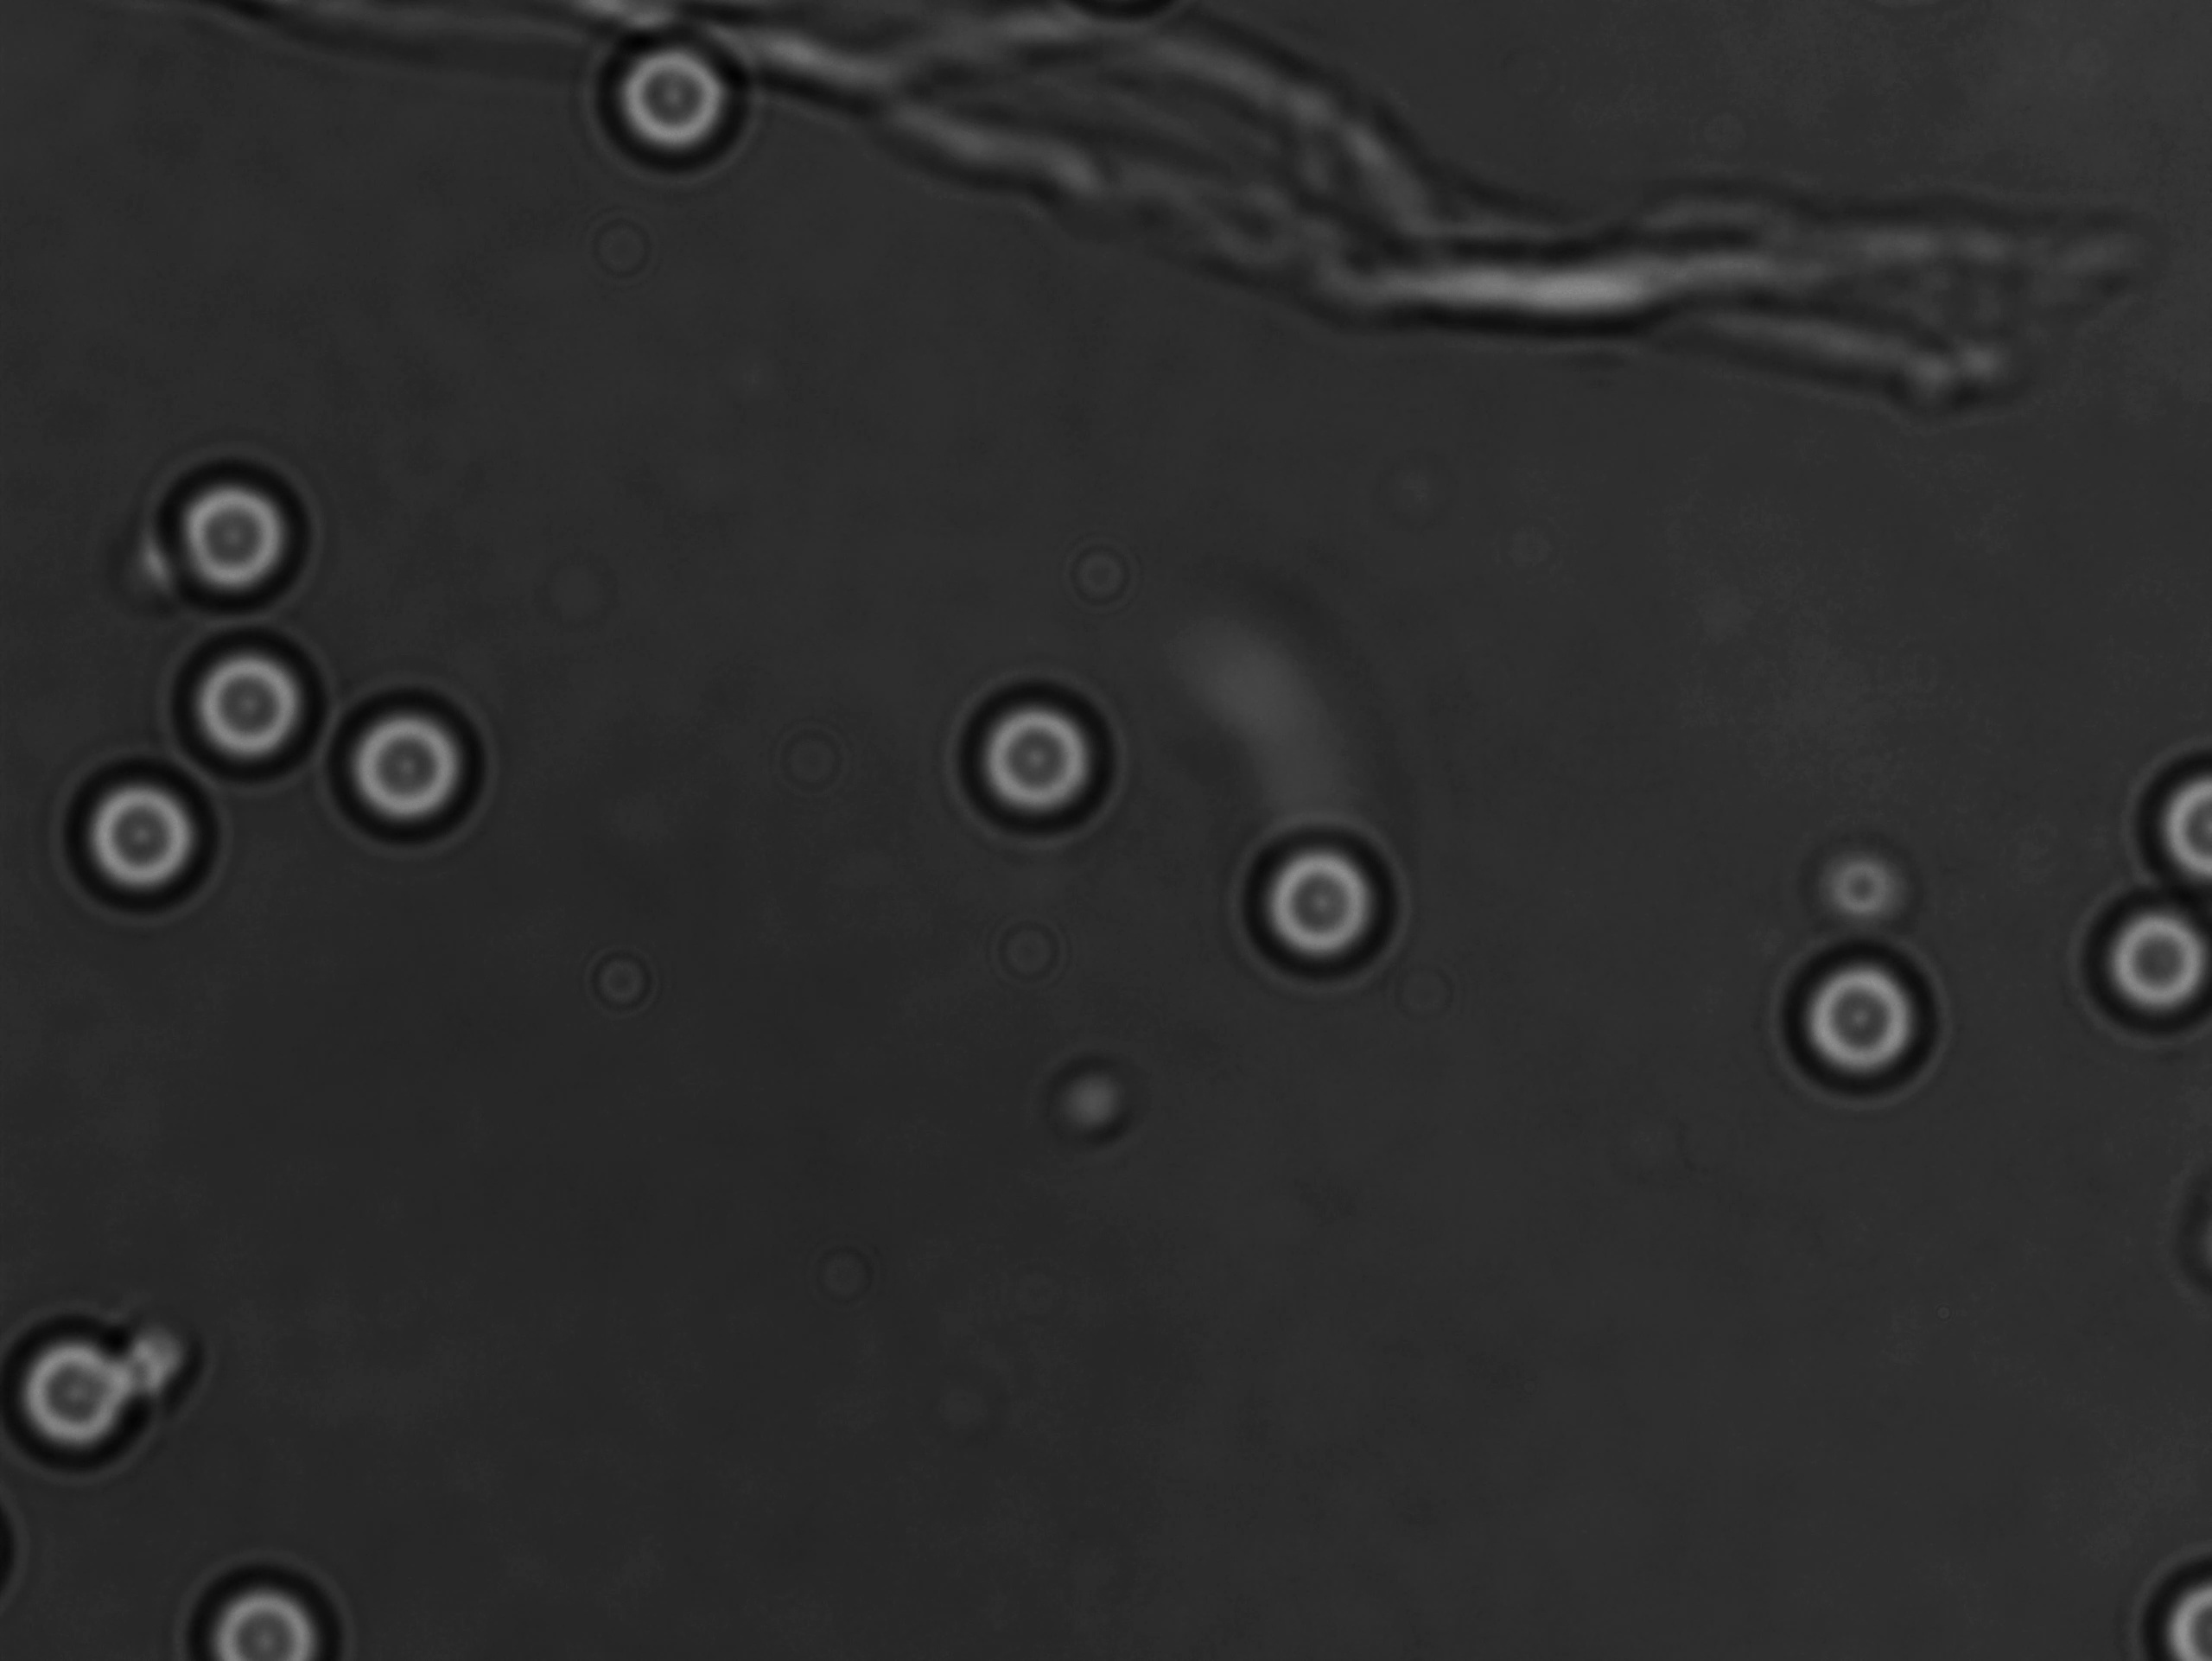depth:40: (1750, 932, 1943, 1117), (127, 448, 333, 621), (1233, 813, 1420, 998), (947, 670, 1134, 850), (40, 748, 213, 930), (2060, 871, 2212, 1068), (167, 619, 335, 796), (314, 680, 492, 846), (583, 23, 762, 187), (178, 1532, 351, 1661), (2133, 738, 2212, 886)
